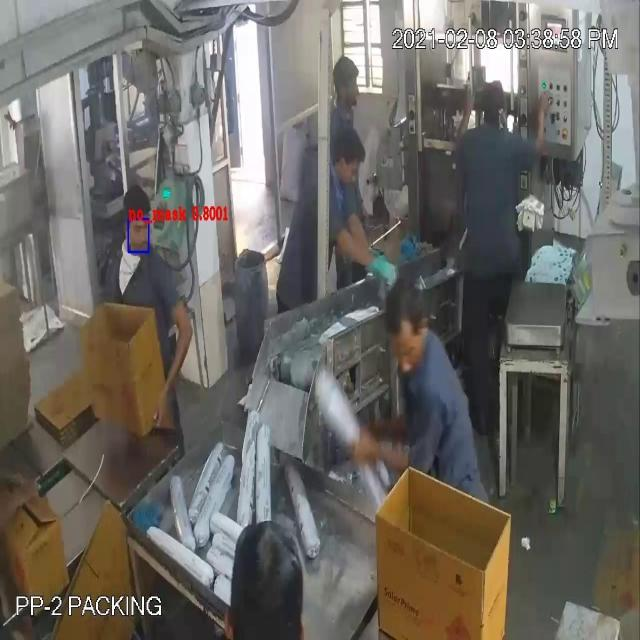No_Gloves: (26, 60, 541, 457)
